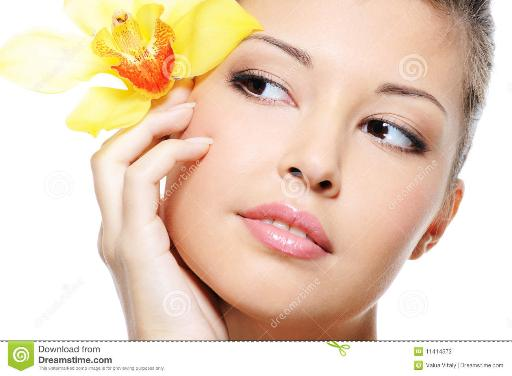left_eye: (356, 121, 427, 157)
left_lip_corner: (322, 243, 345, 260)
right_eye: (230, 77, 296, 106)
right_lip_corner: (229, 209, 251, 226)
